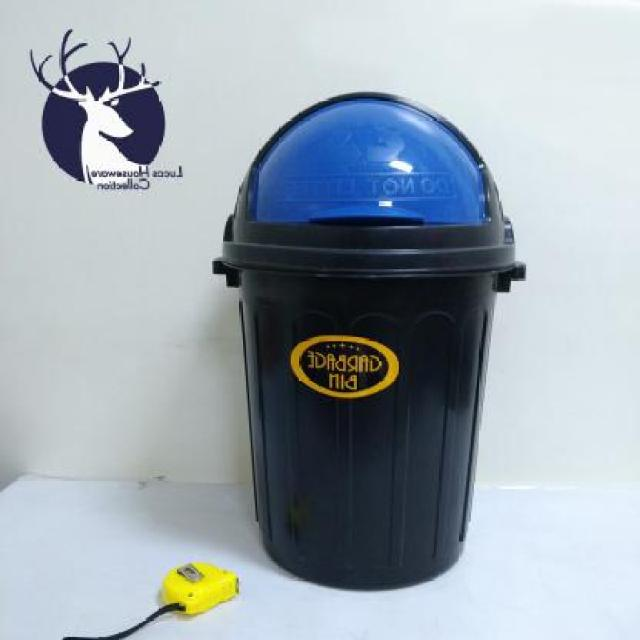garbage container: (212, 77, 546, 594)
